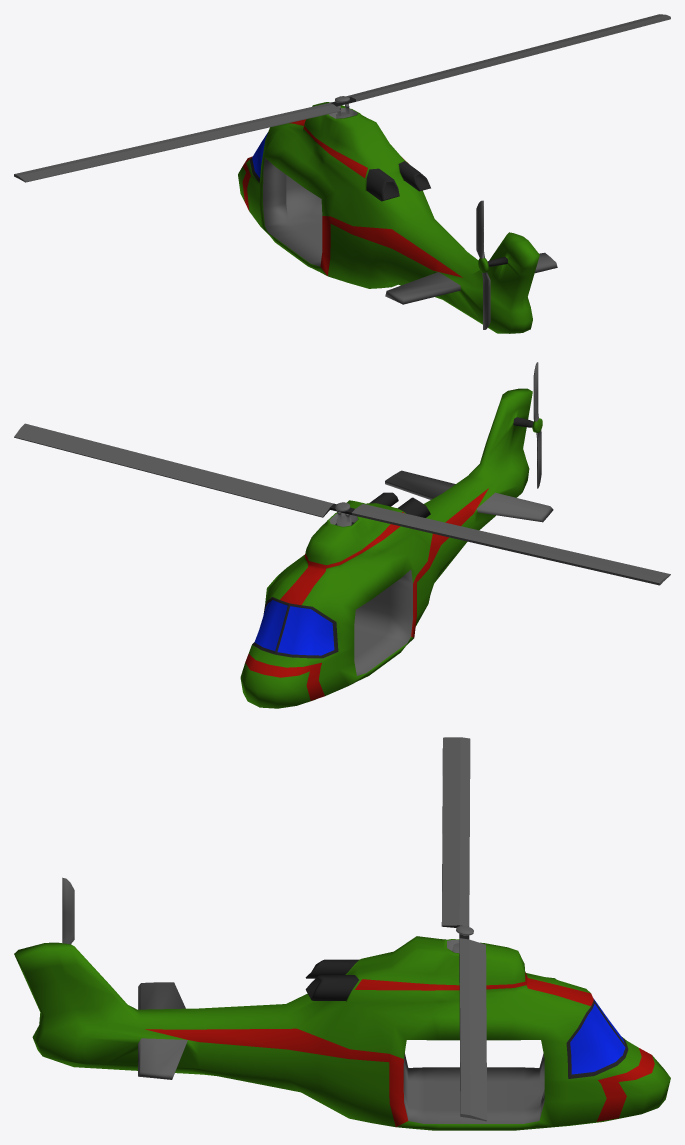
Rendered from TCH-1AE.glb.
The picture shows the model from 3 angles, top to bottom: view 1: azimuth 30°, elevation 25°; view 2: azimuth 150°, elevation 25°; view 3: azimuth 270°, elevation 25°; orthographic projection. The views are drawn at different scales.
Parts seen in each view (by area): view 1: Cube, Cube.001, Cube.002, Cylinder; view 2: Cube, Cube.002, Cube.001, Cylinder; view 3: Cube, Cube.001, Cube.002, Cylinder.
Part boxes in pixels (box(x1,y1,x2,y2)): Cube: box(238, 102, 557, 333); Cube.001: box(14, 101, 344, 182); Cube.002: box(345, 14, 670, 104); Cylinder: box(476, 200, 490, 329); Cube: box(240, 388, 553, 708); Cube.002: box(14, 423, 340, 517); Cube.001: box(341, 504, 670, 585); Cylinder: box(532, 362, 542, 488); Cube: box(14, 936, 670, 1130); Cube.001: box(441, 737, 470, 927); Cube.002: box(459, 934, 487, 1121); Cylinder: box(62, 877, 74, 944).
Size of the model in its own units: 24.89 by 6.81 by 18.34.
